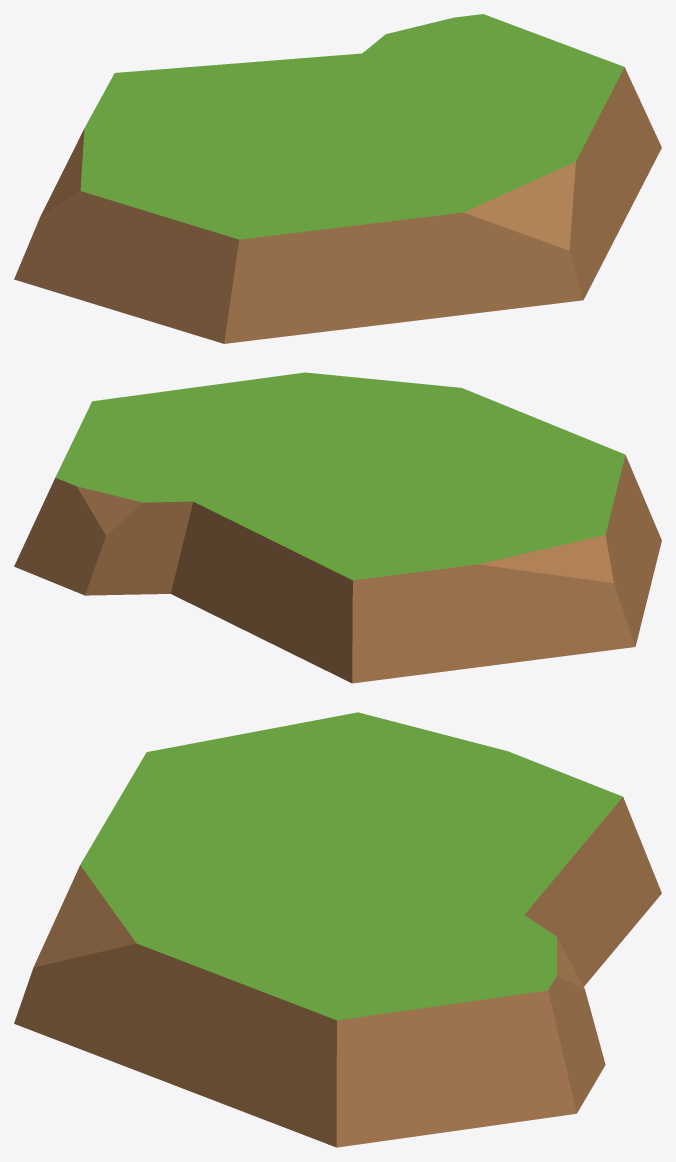
File: rock_smallFlatC.glb
3 views of the same model, one above another, from view 1: azimuth 30°, elevation 25°; view 2: azimuth 150°, elevation 25°; view 3: azimuth 270°, elevation 25° (orthographic). The views are drawn at different scales.
Visible parts, largest first — view 1: rock_smallFlatC; view 2: rock_smallFlatC; view 3: rock_smallFlatC.
Part boxes in pixels (x1,y1,x2,y2): rock_smallFlatC: [14, 14, 661, 343]; rock_smallFlatC: [14, 372, 661, 683]; rock_smallFlatC: [14, 712, 661, 1147].
Size of the model in its own units: 0.4704 by 0.0649 by 0.3603.
